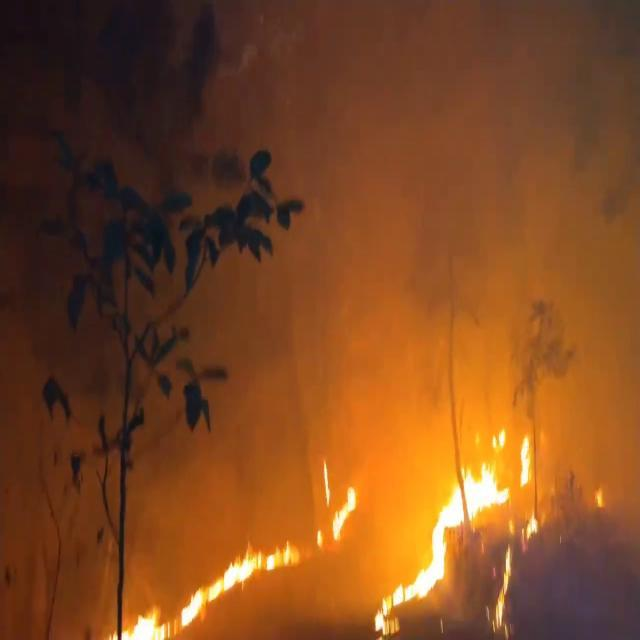Fire: (379, 418, 536, 618), (110, 530, 296, 635), (314, 444, 360, 546)
Smoke: (236, 1, 640, 482)
